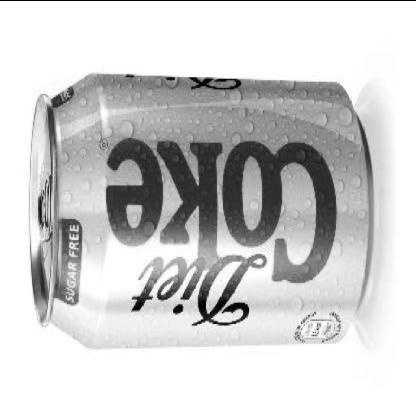alumunium_can: (26, 71, 374, 350)
